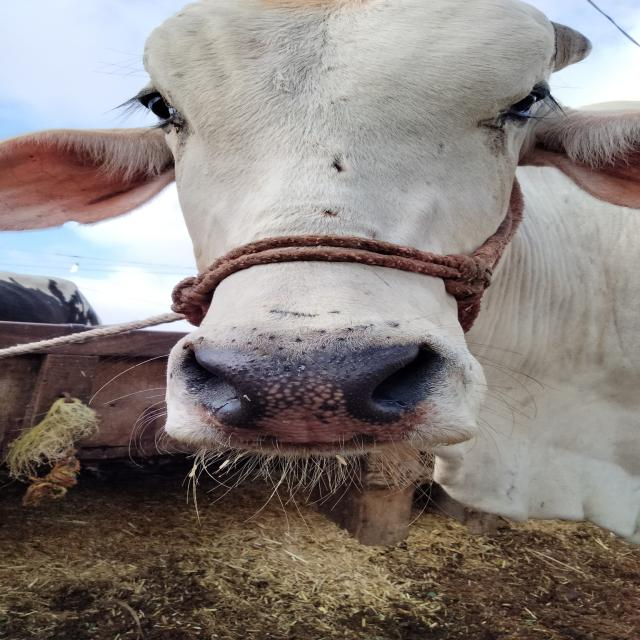muzzles: (171, 318, 460, 456)
